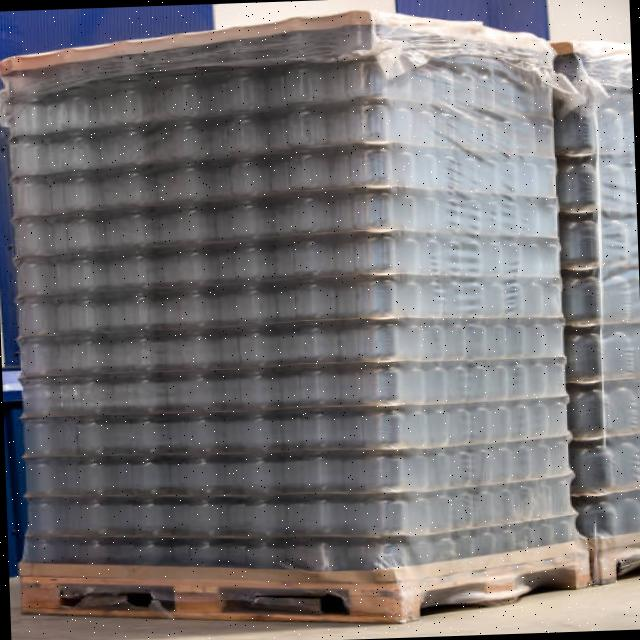Wooden-Pallets: (8, 541, 590, 628)
